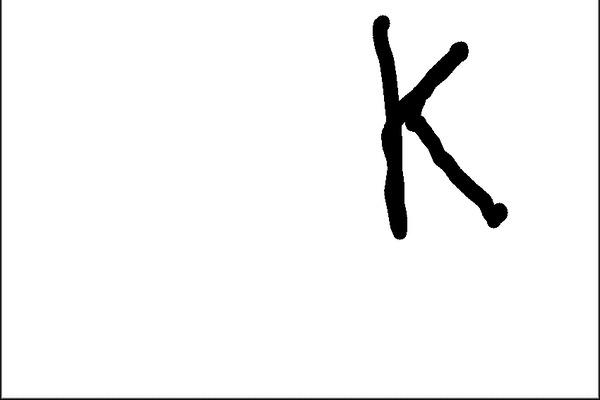K: (362, 8, 513, 243)
